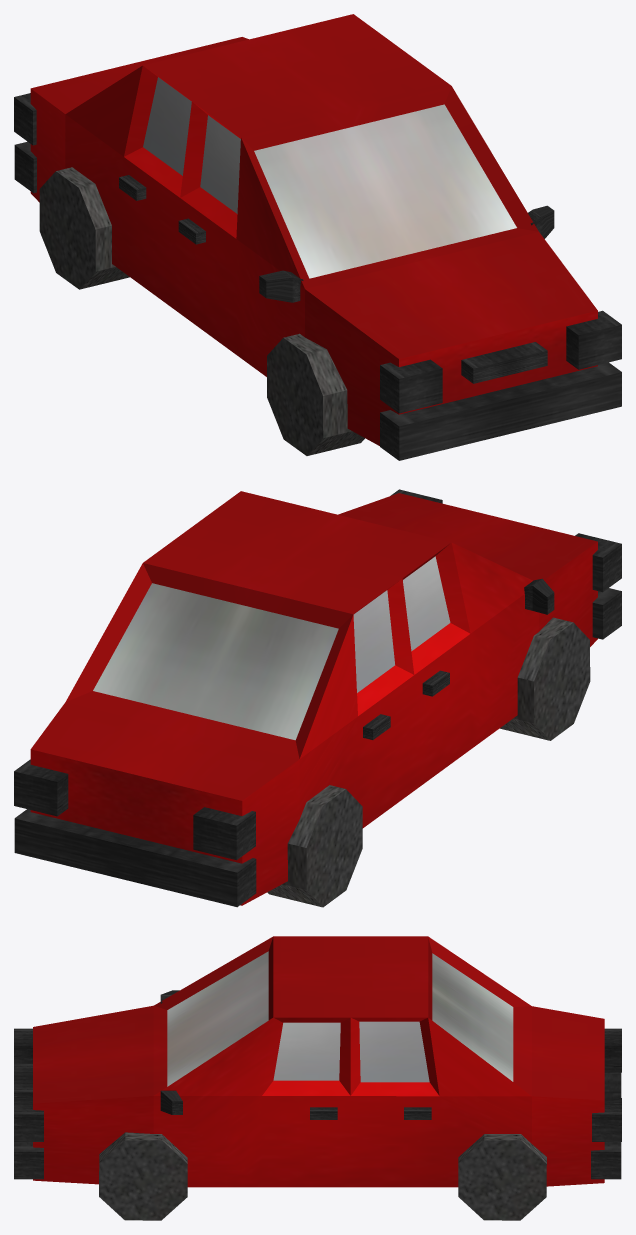
The model's file is Car.fbx.
The picture shows the model from 3 angles, top to bottom: view 1: azimuth 30°, elevation 25°; view 2: azimuth 150°, elevation 25°; view 3: azimuth 270°, elevation 25°; orthographic projection. The views are drawn at different scales.
Parts seen in each view (by area): view 1: Cube; view 2: Cube; view 3: Cube.
Part boxes in pixels (x1,y1,x2,y2): Cube: (14,14,621,460); Cube: (14,489,621,907); Cube: (14,936,621,1220).
Size of the model in its own units: 519 by 419 by 1203.
1 material, 1 textured.
